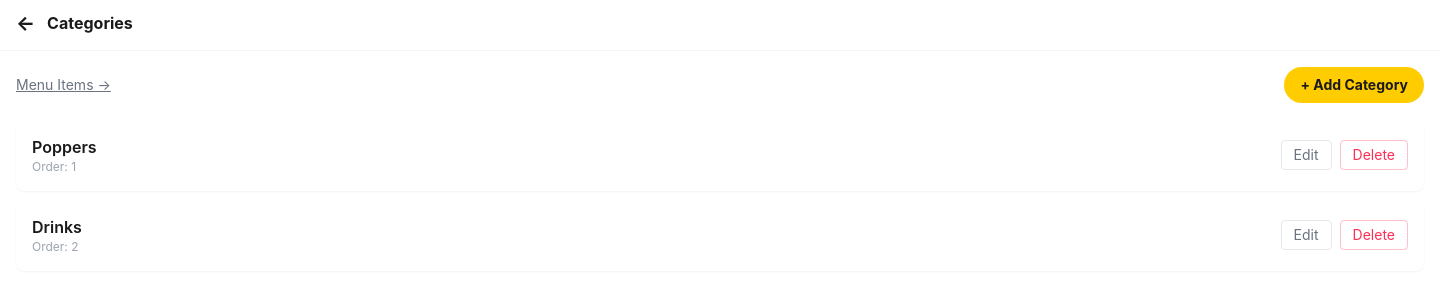
Categories › shows error when deleting a category that has menu items
Expected: the text "Poppers" is shown, [32, 135, 96, 159]
Click the button "Delete" in the row of "Poppers".
click(1374, 155)  # box [1340, 140, 1408, 170]
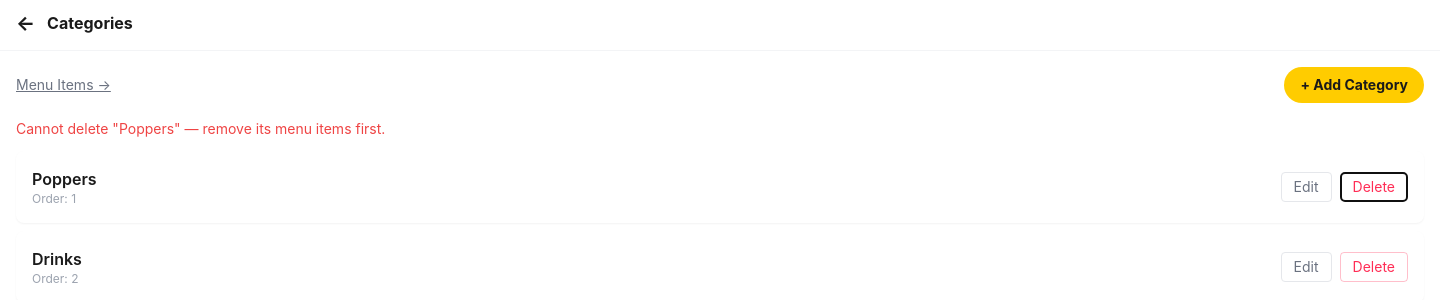
Expected: the text "Cannot delete \"Poppers\" — remove its menu items first." is shown, [16, 120, 385, 137]
